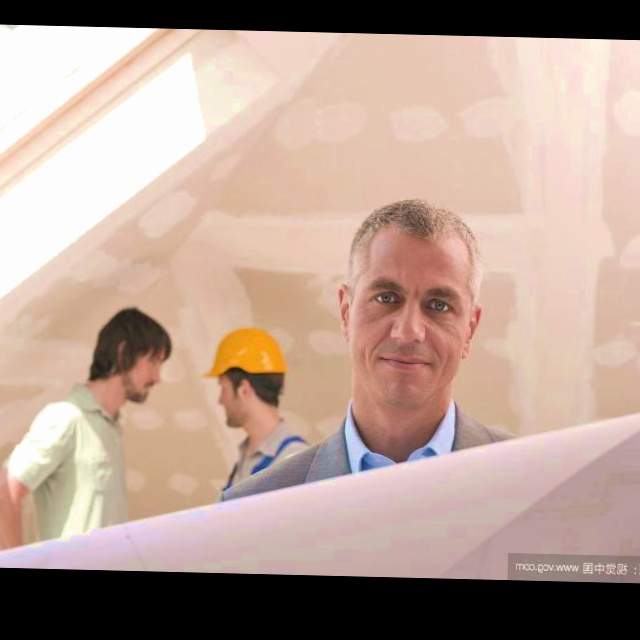Con_Casco: (205, 324, 287, 429)
Sin_Casco_Mascarrilla: (338, 199, 484, 400), (87, 306, 171, 410)
